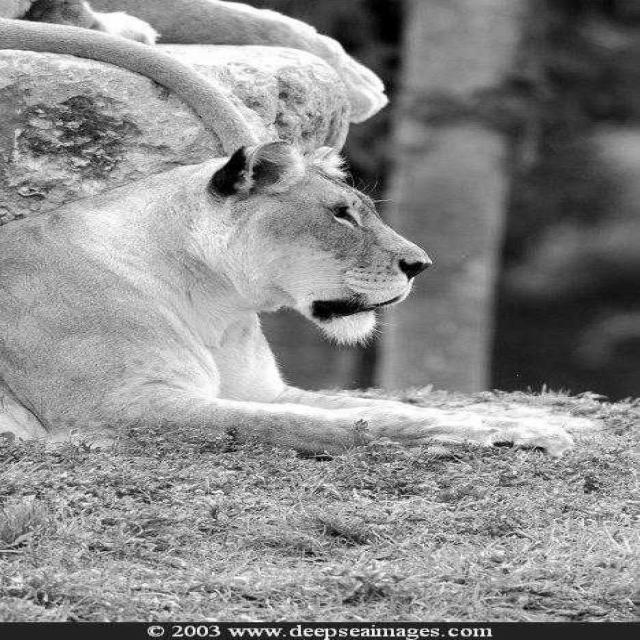Lion: (68, 115, 567, 435)
